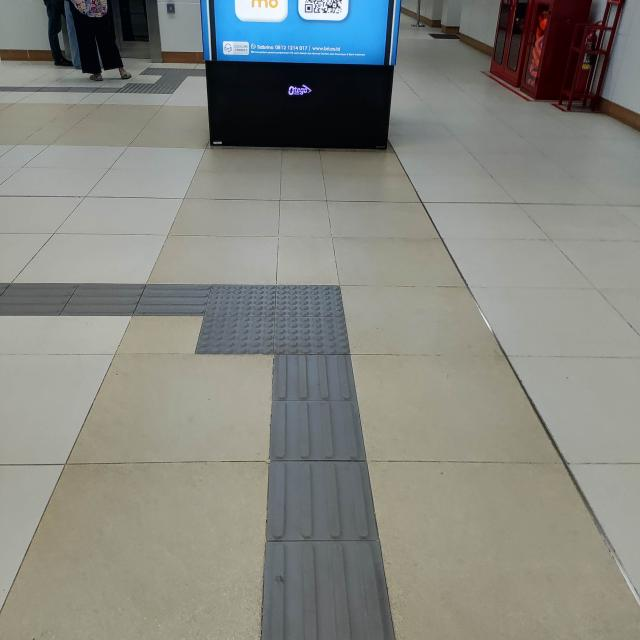kiri: (118, 252, 398, 404)
